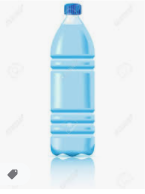Bottle: (49, 5, 96, 155)
